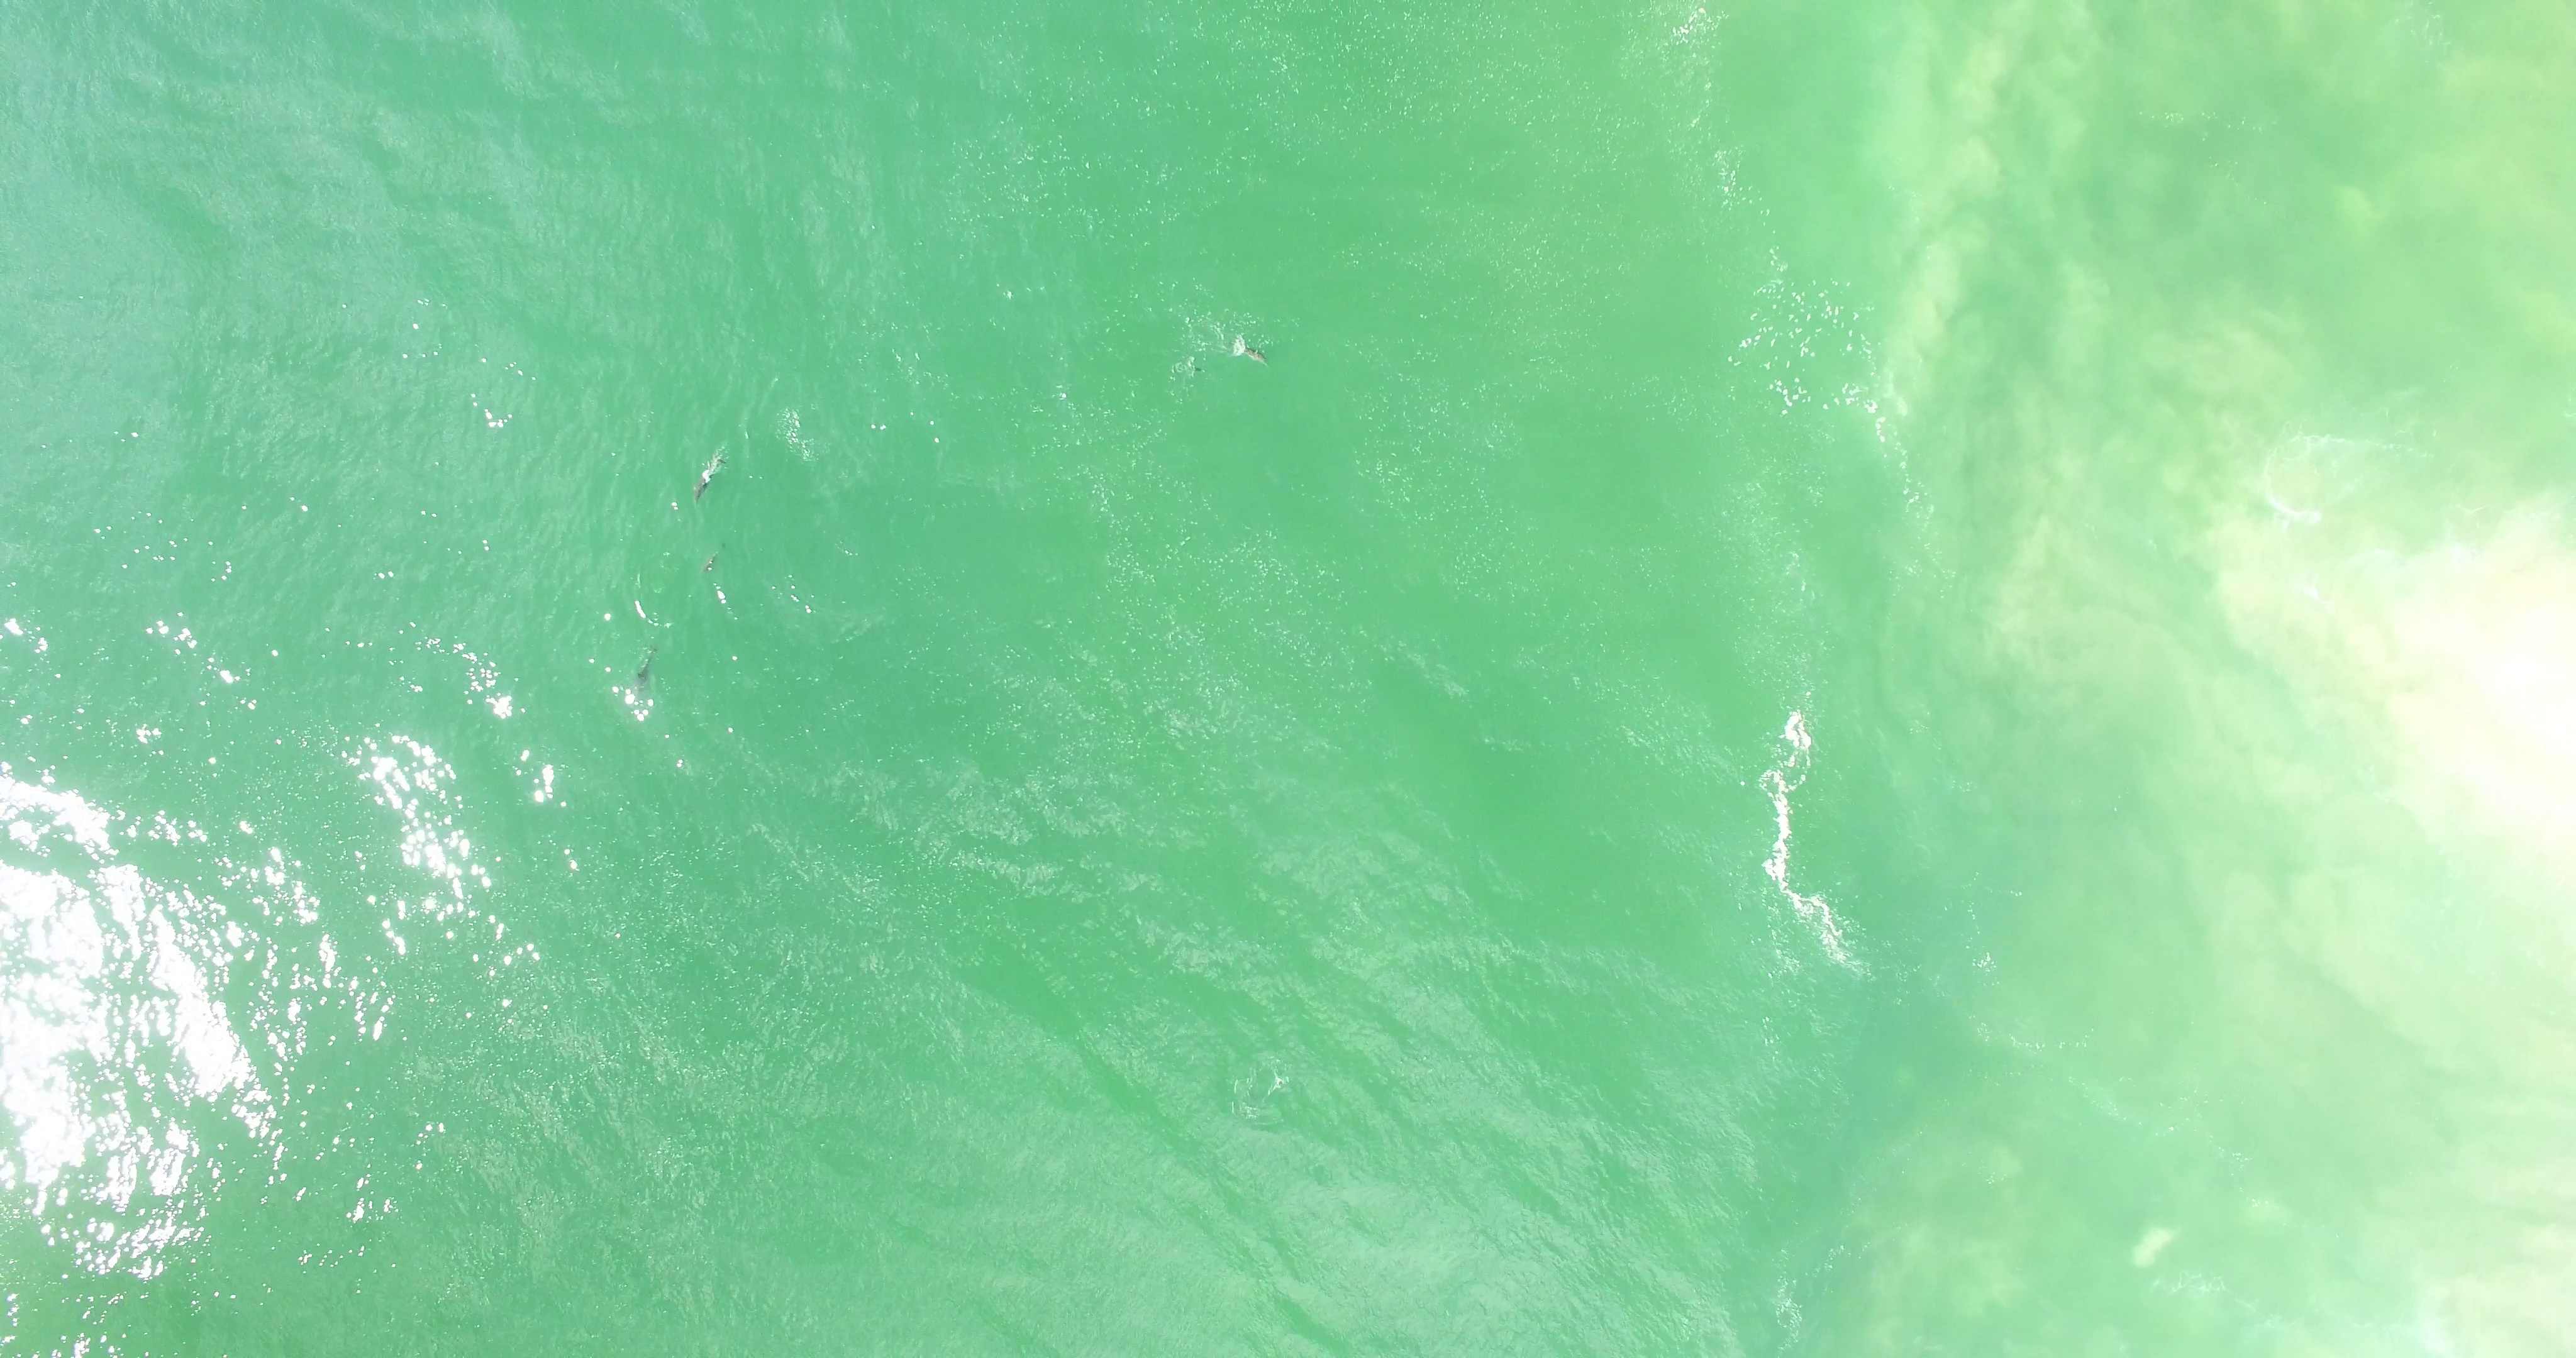dolphin: (625, 644, 661, 704), (690, 453, 727, 501), (1228, 332, 1268, 366), (700, 542, 731, 581)
